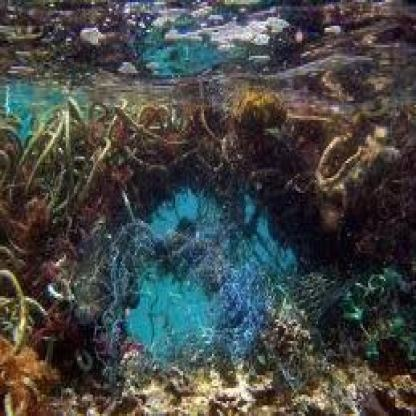net: (1, 92, 416, 403)
